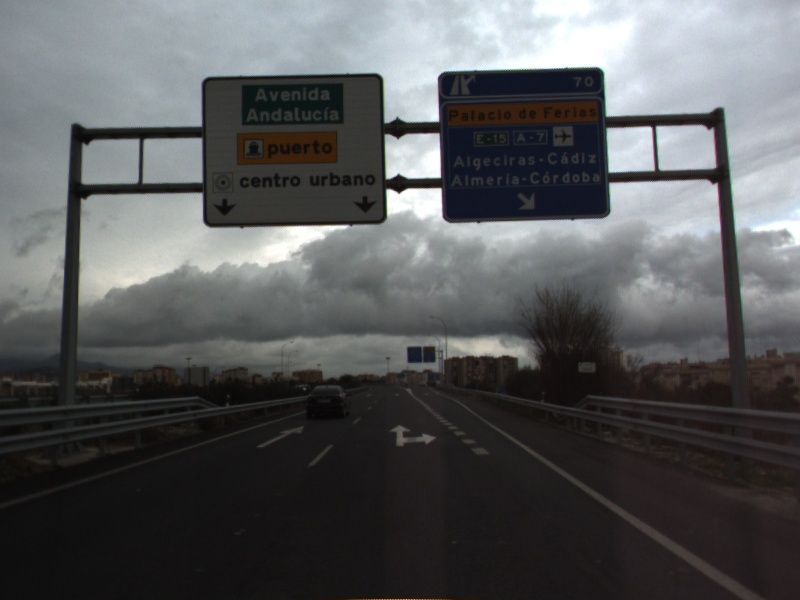STRAIGHT: (254, 423, 307, 450)
STRAIGHT_RIGHT: (386, 422, 439, 448)
